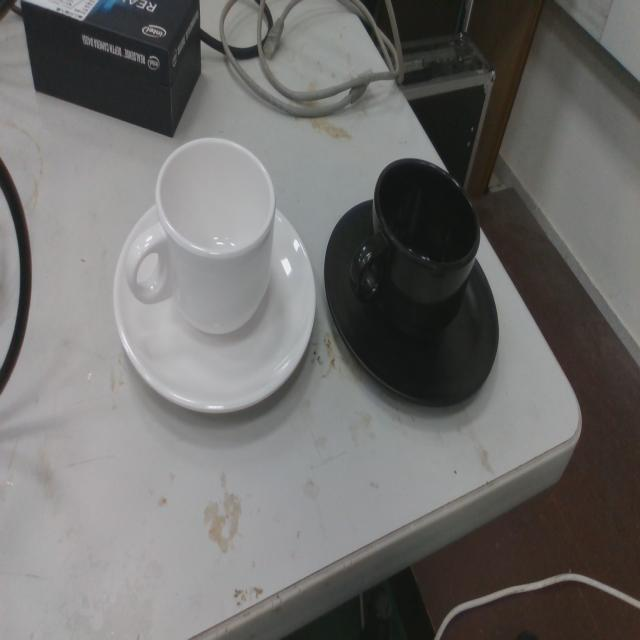black: (322, 154, 502, 416)
white: (111, 132, 318, 424)
